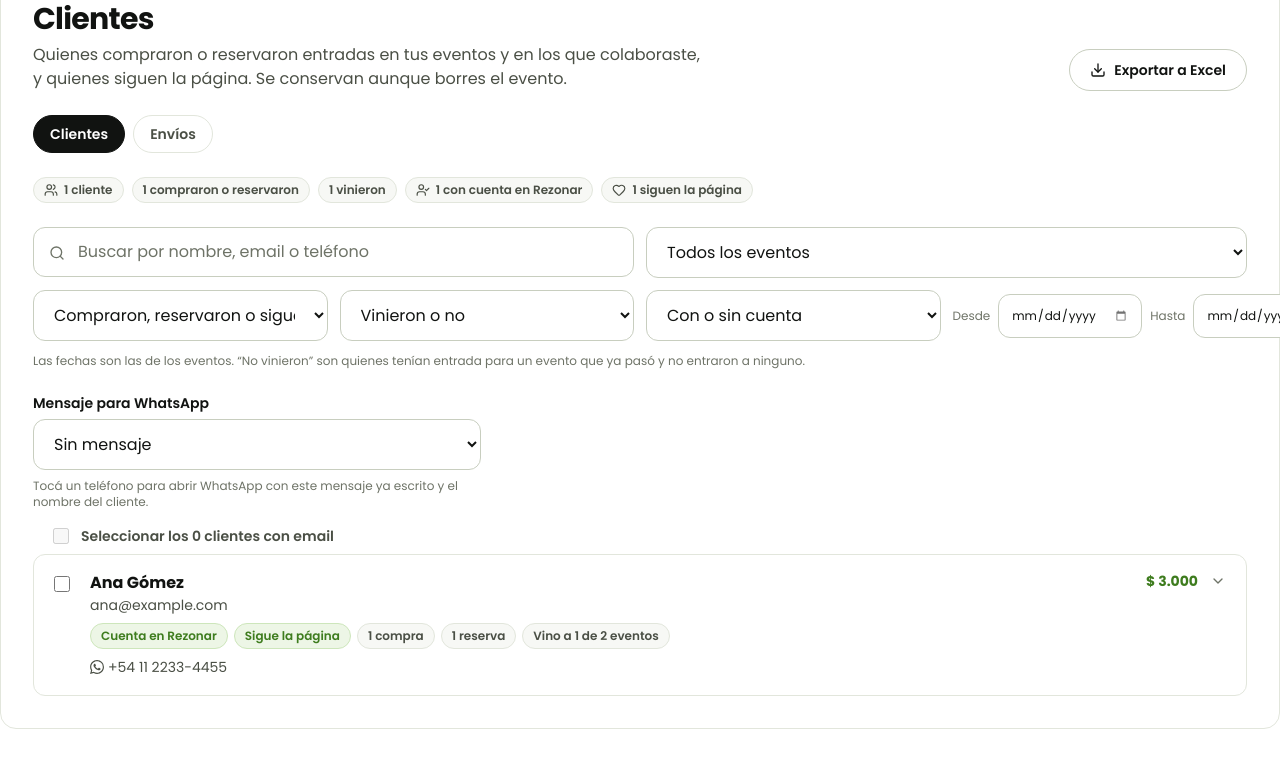
it: PanelClientes › al abrir un cliente muestra sus eventos, también los eliminados y las colaboraciones
Click the text "Ana Gómez": (137, 582) [90,571,184,594]
(page scrolled)
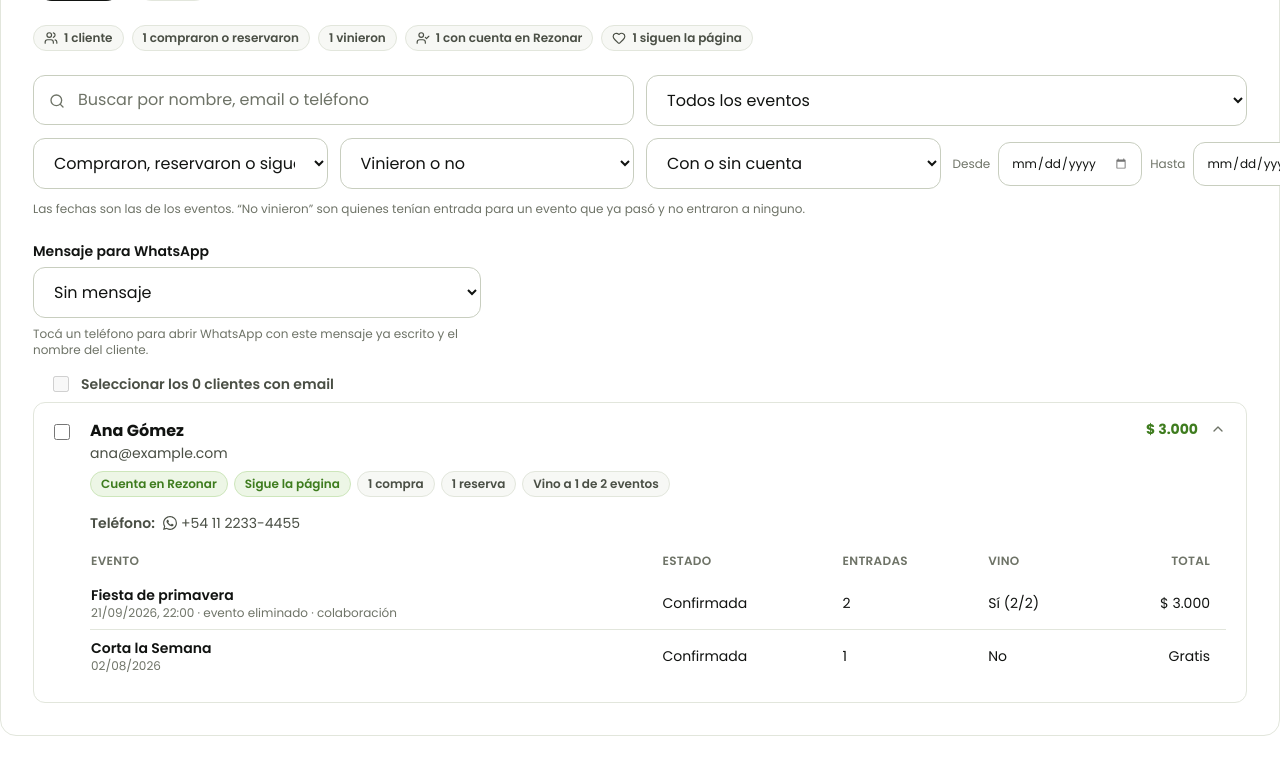
Expected: the text "Fiesta de primavera" is shown, [91,585,234,605]
Expected: the text "21/09/2026, 22:00 · evento eliminado · colaboración" is shown, [91,604,397,621]
Expected: the text "Gratis" is shown, [1107,630,1226,682]
